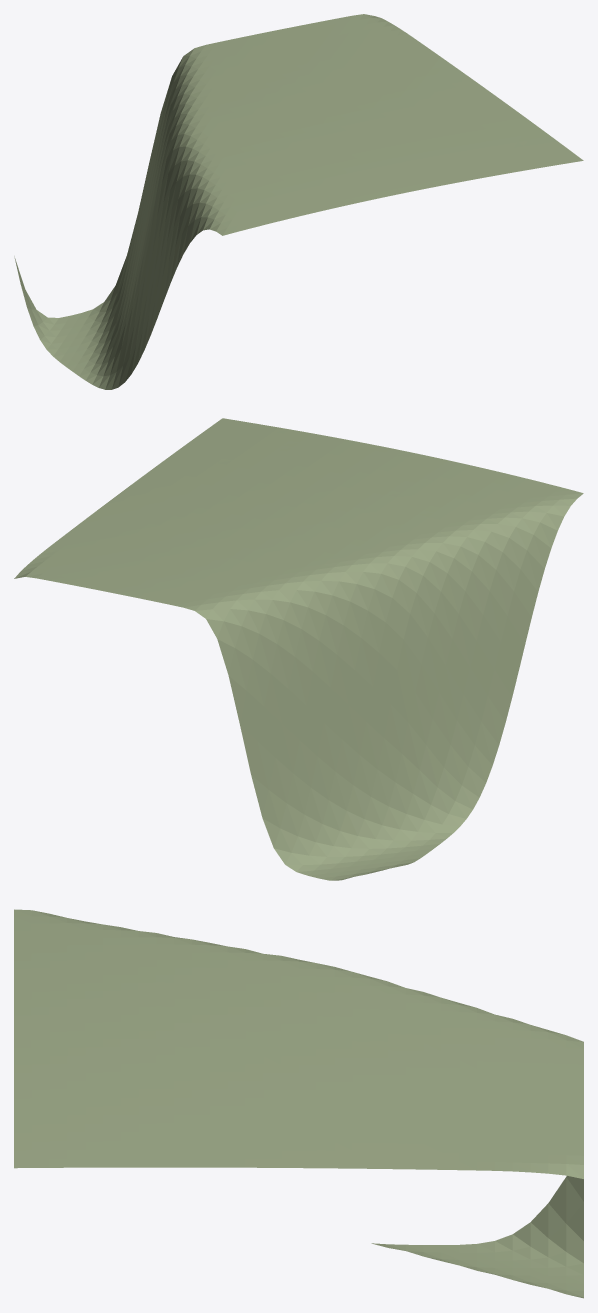
Rendered from canyon-1-5.glb.
3 views of the same model, one above another, from view 1: azimuth 30°, elevation 25°; view 2: azimuth 150°, elevation 25°; view 3: azimuth 270°, elevation 25° (orthographic). The views are drawn at different scales.
Visible parts, largest first — view 1: canyon-1-5; view 2: canyon-1-5; view 3: canyon-1-5.
Boxes of the visible parts, x1,y1,x2,y2 form: canyon-1-5: [14, 14, 583, 389]; canyon-1-5: [14, 418, 583, 880]; canyon-1-5: [14, 909, 583, 1298].
Bounding box in the file's own units: 128 × 83.98 × 128.
